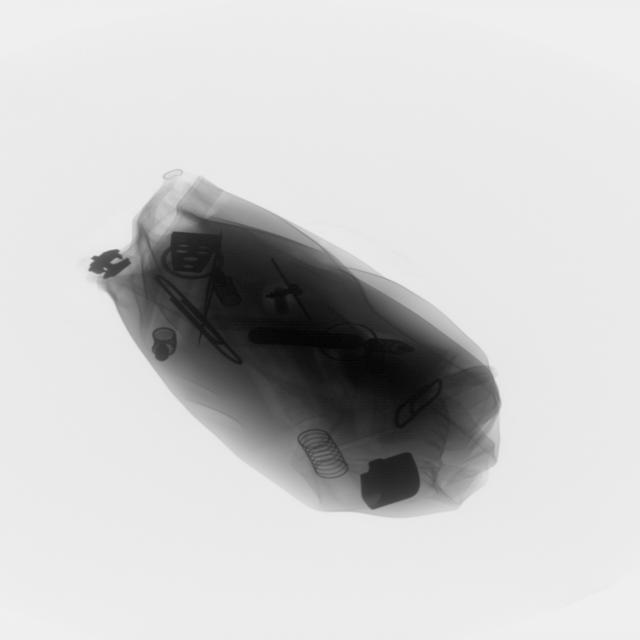pin: (154, 269, 246, 374), (390, 373, 445, 429)
